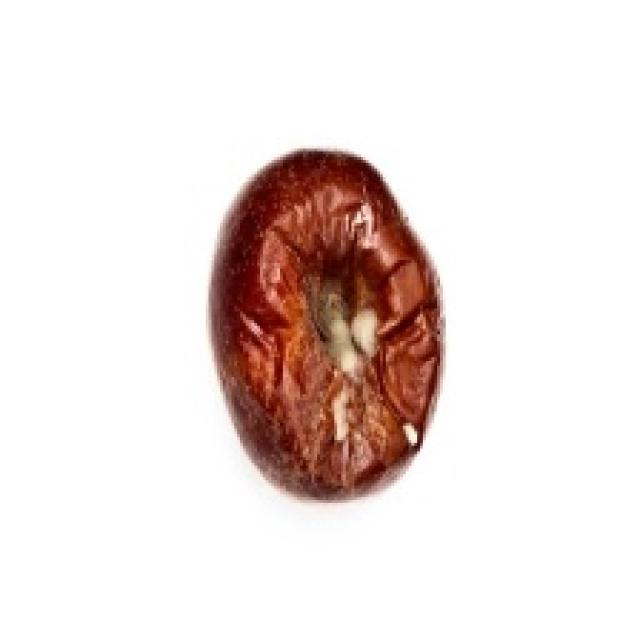rotten_apple: (212, 152, 444, 494)
